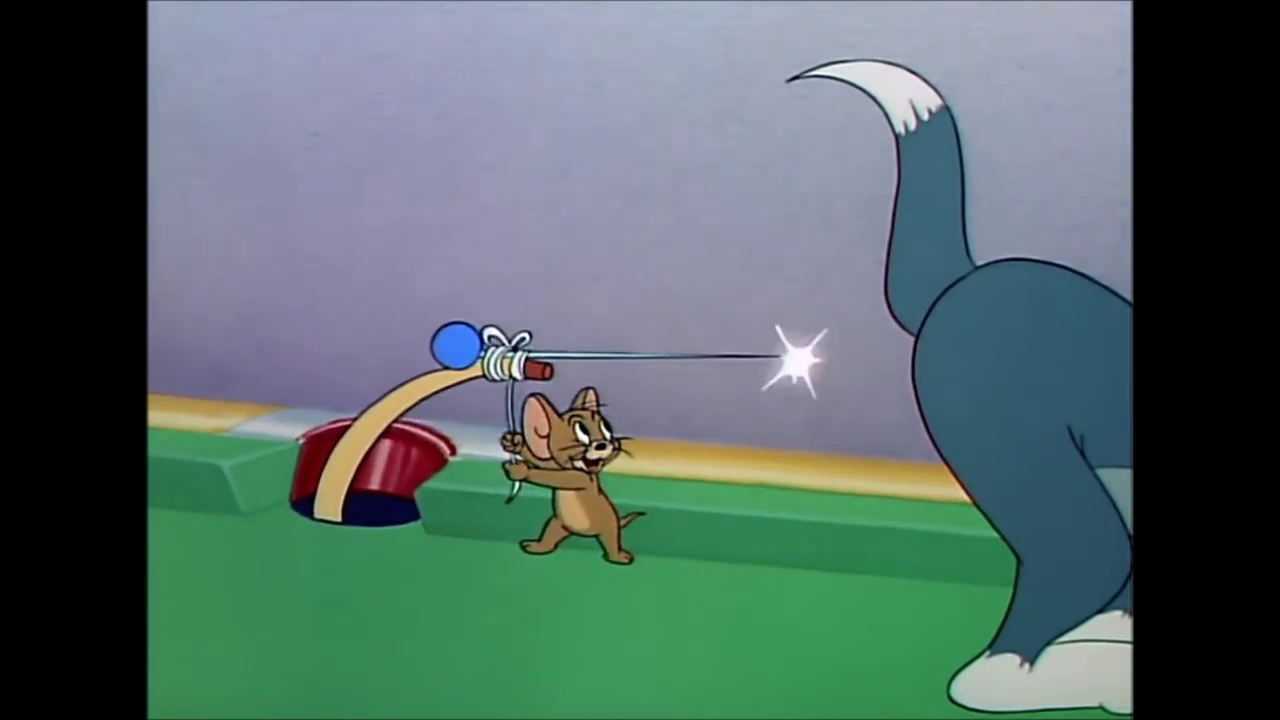happy: (566, 409, 610, 475)
